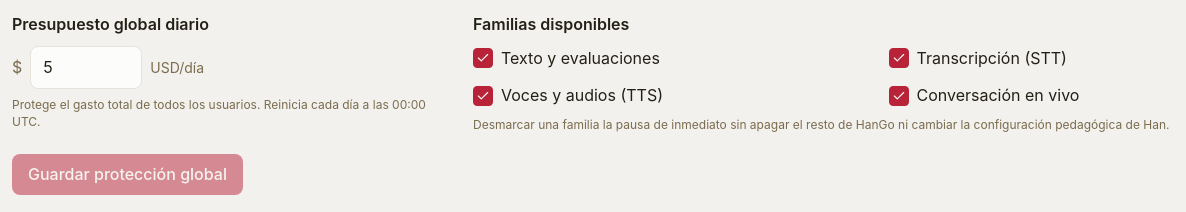
Test: GlobalAiBudgetControl › updates the daily budget and can pause one family independently
Replace the text in the number field labelled "Presupuesto global diario" with "3": (86, 67) [30,46,142,89]
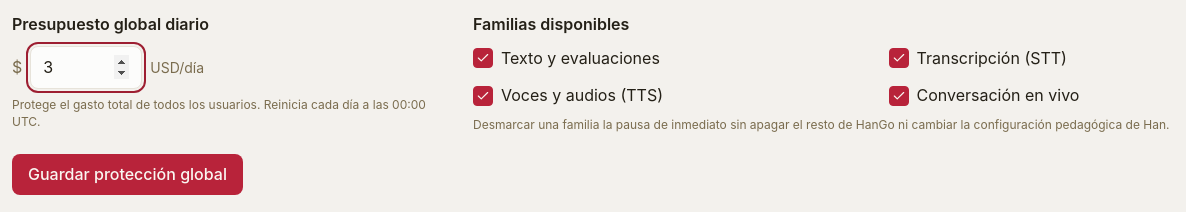
Click the checkbox named "Voces y audios (TTS)" next to "Voces y audios (TTS)": (483, 96) [473,86,493,106]
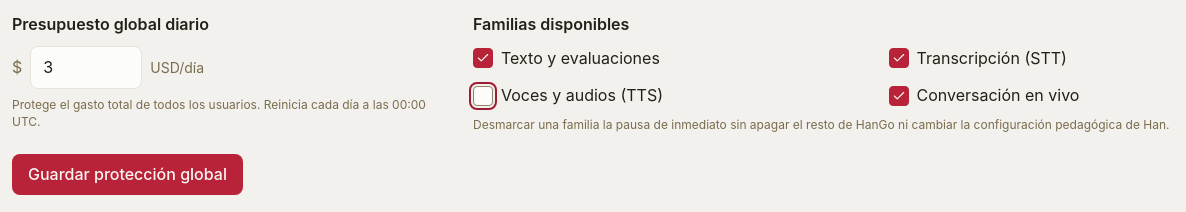
Click the button "Guardar protección global": (127, 174) [12,154,243,195]
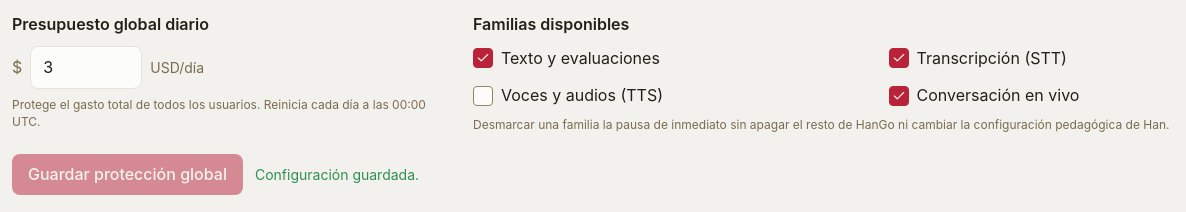
Now the text "Configuración guardada." is shown, box [255,166,419,183]
